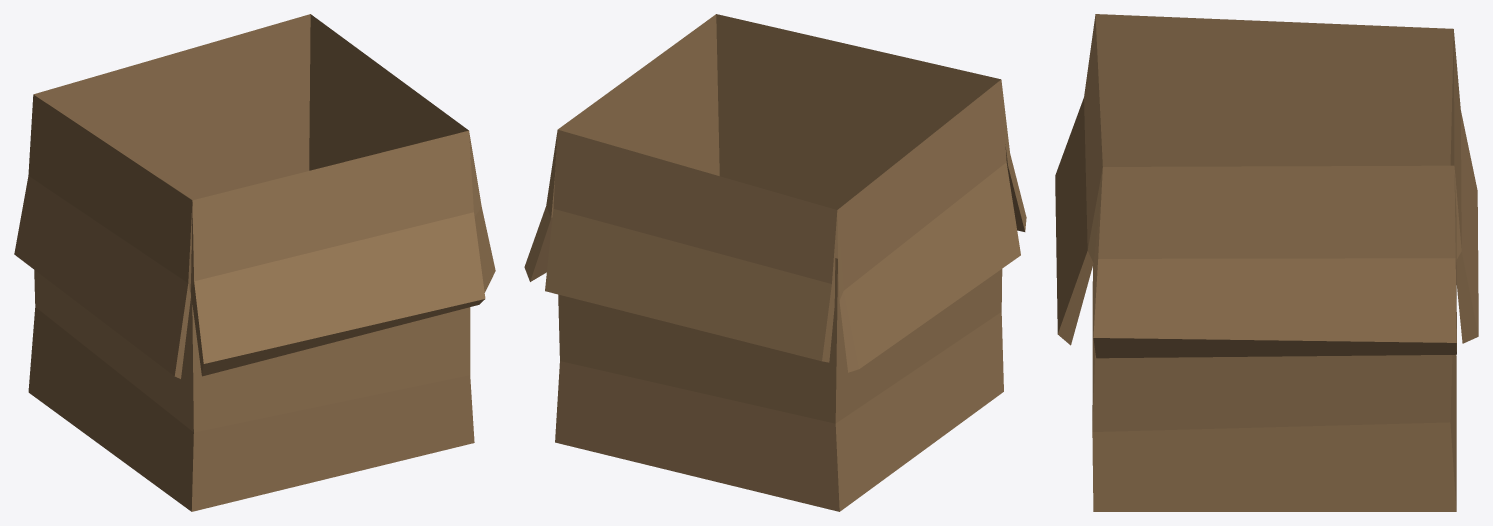
Rendered from CardboardBox.fbx.
3 views of the same model, side by side, from view 1: azimuth 30°, elevation 25°; view 2: azimuth 150°, elevation 25°; view 3: azimuth 270°, elevation 25° (orthographic). The views are drawn at different scales.
Parts seen in each view (by area): view 1: Cube; view 2: Cube; view 3: Cube.
Part boxes in pixels (x1,y1,x2,y2): Cube: (14, 14, 495, 511); Cube: (524, 14, 1026, 511); Cube: (1055, 14, 1478, 511).
Bounding box in the file's own units: 233 × 233 × 210.
